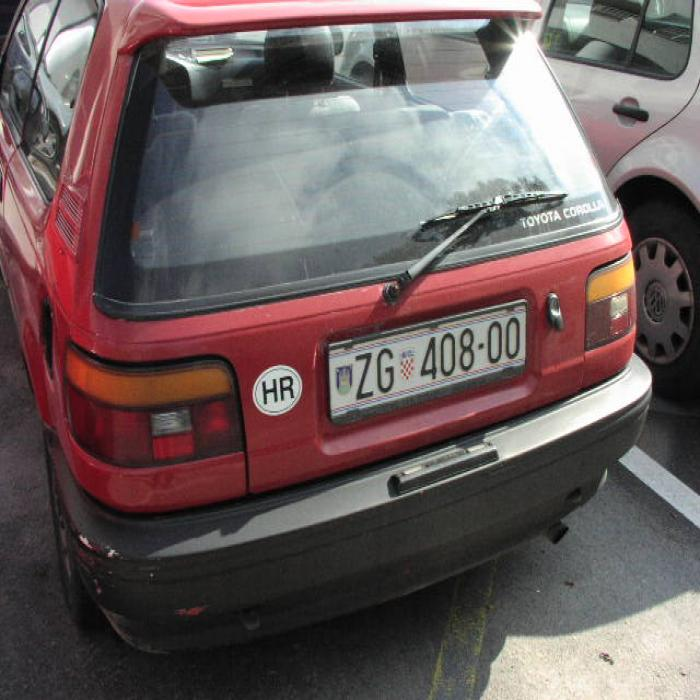number_plate: (330, 309, 525, 417)
